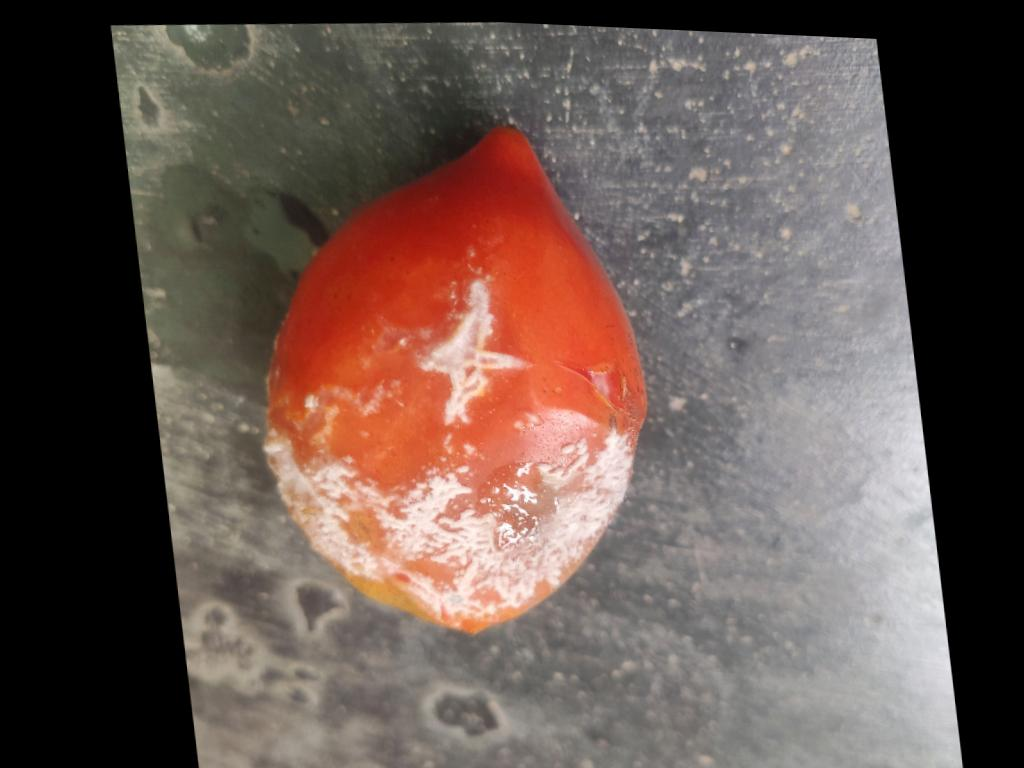rot_mold_decay: (264, 416, 633, 620), (420, 281, 529, 423)
surface_damage: (419, 281, 530, 424), (555, 362, 628, 415)
tomato: (265, 128, 645, 632)
